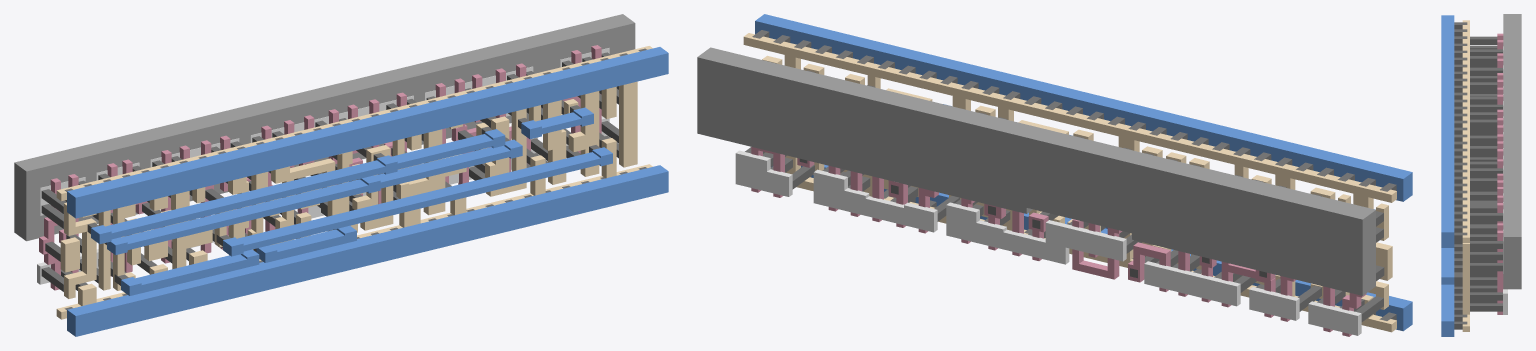
The model's file is sky130_fd_sc_hd__sedfxbp_1.gds.gltf.
The picture shows the model from 3 angles, left to right: view 1: azimuth 30°, elevation 25°; view 2: azimuth 150°, elevation 25°; view 3: azimuth 270°, elevation 25°; orthographic projection. The views are drawn at different scales.
Parts seen in each view (by area): view 1: sky130_fd_sc_hd__sedfxbp_1_met1, sky130_fd_sc_hd__sedfxbp_1_li1, sky130_fd_sc_hd__sedfxbp_1_nwell, sky130_fd_sc_hd__sedfxbp_1_poly, sky130_fd_sc_hd__sedfxbp_1_licon, sky130_fd_sc_hd__sedfxbp_1_diff, sky130_fd_sc_hd__sedfxbp_1_mcon; view 2: sky130_fd_sc_hd__sedfxbp_1_nwell, sky130_fd_sc_hd__sedfxbp_1_li1, sky130_fd_sc_hd__sedfxbp_1_met1, sky130_fd_sc_hd__sedfxbp_1_diff, sky130_fd_sc_hd__sedfxbp_1_poly, sky130_fd_sc_hd__sedfxbp_1_licon, sky130_fd_sc_hd__sedfxbp_1_mcon; view 3: sky130_fd_sc_hd__sedfxbp_1_licon, sky130_fd_sc_hd__sedfxbp_1_nwell, sky130_fd_sc_hd__sedfxbp_1_met1, sky130_fd_sc_hd__sedfxbp_1_mcon, sky130_fd_sc_hd__sedfxbp_1_li1, sky130_fd_sc_hd__sedfxbp_1_poly, sky130_fd_sc_hd__sedfxbp_1_diff.
Boxes of the visible parts, bbox=[...] form: sky130_fd_sc_hd__sedfxbp_1_met1: bbox=[67, 47, 668, 336]; sky130_fd_sc_hd__sedfxbp_1_li1: bbox=[56, 46, 652, 319]; sky130_fd_sc_hd__sedfxbp_1_nwell: bbox=[14, 14, 635, 241]; sky130_fd_sc_hd__sedfxbp_1_poly: bbox=[39, 45, 601, 290]; sky130_fd_sc_hd__sedfxbp_1_licon: bbox=[41, 52, 618, 291]; sky130_fd_sc_hd__sedfxbp_1_diff: bbox=[37, 48, 609, 284]; sky130_fd_sc_hd__sedfxbp_1_mcon: bbox=[64, 48, 646, 310]; sky130_fd_sc_hd__sedfxbp_1_nwell: bbox=[697, 47, 1375, 295]; sky130_fd_sc_hd__sedfxbp_1_li1: bbox=[743, 33, 1396, 332]; sky130_fd_sc_hd__sedfxbp_1_met1: bbox=[755, 14, 1412, 331]; sky130_fd_sc_hd__sedfxbp_1_diff: bbox=[735, 150, 1361, 335]; sky130_fd_sc_hd__sedfxbp_1_poly: bbox=[751, 147, 1366, 336]; sky130_fd_sc_hd__sedfxbp_1_licon: bbox=[745, 70, 1384, 321]; sky130_fd_sc_hd__sedfxbp_1_mcon: bbox=[752, 30, 1396, 320]; sky130_fd_sc_hd__sedfxbp_1_licon: bbox=[1470, 36, 1502, 311]; sky130_fd_sc_hd__sedfxbp_1_nwell: bbox=[1503, 14, 1521, 289]; sky130_fd_sc_hd__sedfxbp_1_met1: bbox=[1441, 15, 1454, 336]; sky130_fd_sc_hd__sedfxbp_1_mcon: bbox=[1454, 22, 1467, 329]; sky130_fd_sc_hd__sedfxbp_1_li1: bbox=[1462, 20, 1469, 331]; sky130_fd_sc_hd__sedfxbp_1_poly: bbox=[1497, 33, 1503, 314]; sky130_fd_sc_hd__sedfxbp_1_diff: bbox=[1503, 46, 1507, 314].
Size of the model in its own units: 14.64 by 3.2 by 2.24.
